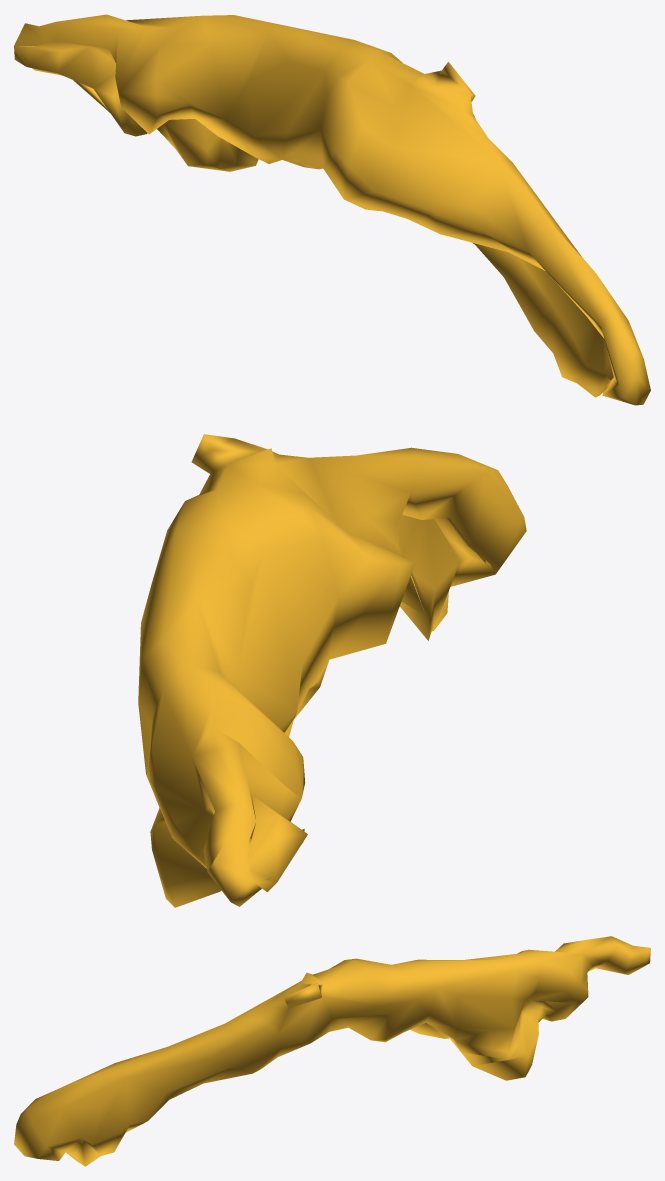
The model's file is nervoso-collateral-sulcus-l.glb.
3 renders of one model, top to bottom at view 1: azimuth 30°, elevation 25°; view 2: azimuth 150°, elevation 25°; view 3: azimuth 270°, elevation 25°, orthographic. The views are drawn at different scales.
Parts seen in each view (by area): view 1: Collateral sulcus.l; view 2: Collateral sulcus.l; view 3: Collateral sulcus.l.
Part boxes in pixels (x1,y1,x2,y2): Collateral sulcus.l: [14, 14, 650, 405]; Collateral sulcus.l: [138, 434, 526, 907]; Collateral sulcus.l: [14, 936, 650, 1166].
Bounding box in the file's own units: 0.0318 × 0.0264 × 0.0829.
